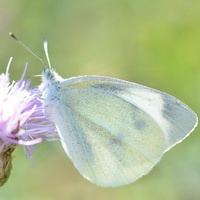insect: (39, 69, 197, 186)
